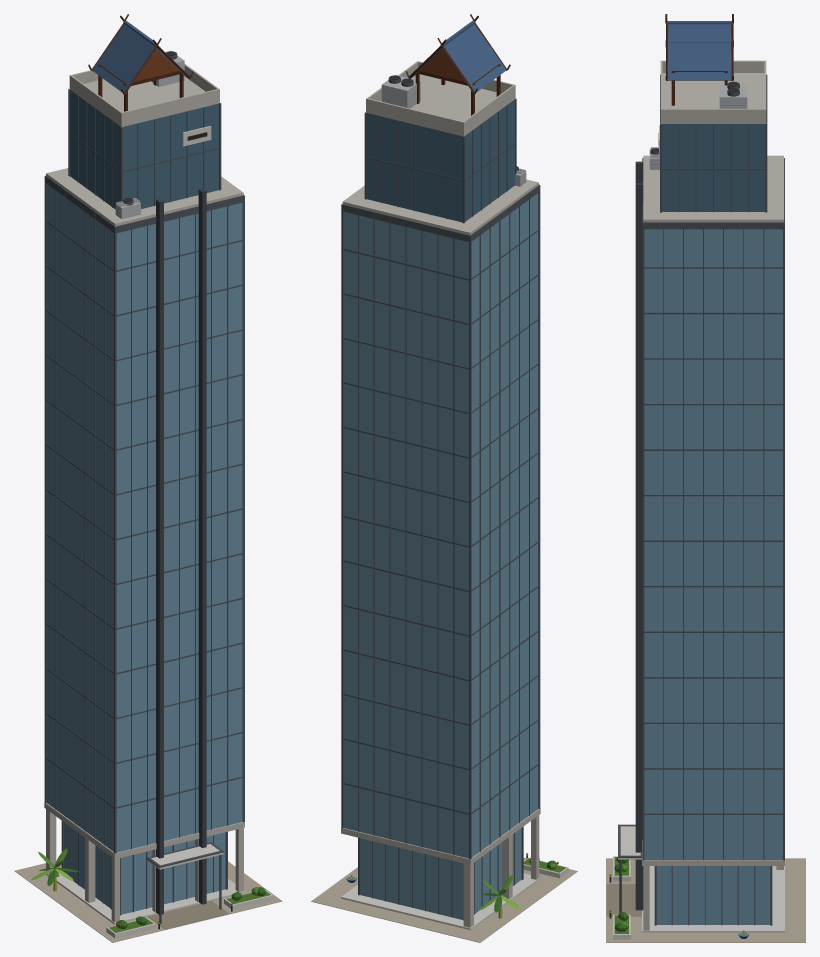
File: shop_4.glb
3 views of the same model, side by side, from view 1: azimuth 30°, elevation 25°; view 2: azimuth 150°, elevation 25°; view 3: azimuth 270°, elevation 25° (orthographic). The views are drawn at different scales.
Visible parts, largest first — view 1: body; view 2: body; view 3: body.
Part boxes in pixels (x1,y1,x2,y2): body: [14, 14, 282, 942]; body: [311, 14, 577, 942]; body: [606, 14, 805, 942].
Bounding box in the file's own units: 17.08 × 77.3 × 15.9.
